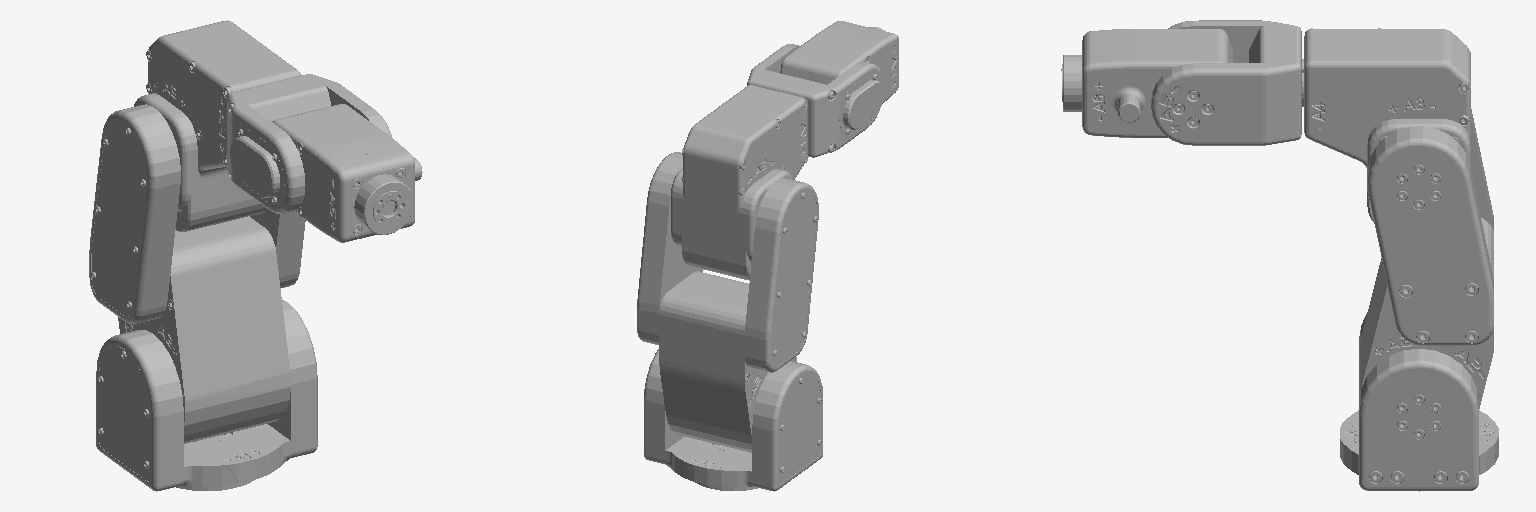
robot.urdf — meca500:
<?xml version="1.0" ?>
<!-- Re-rooted from the home-referenced Onshape export (doc 0427f697...,
     e/fee9a020bbc735c7ee907f27). Tree inverted mathematically: base is root,
     mates in Onshape untouched. Zero position = true Meca500 home. Axis
     0 0 -1 preserves the export's rotation sense. Verified FK-equivalent to
     the export at machine precision.
     Arm-only: split out of robot.urdf.xacro so the Meca500 links/joints can
     be maintained independently of the extruder (see ender3_extruder.urdf). -->
<robot name="meca500">

  <link name="link_0__base">
    <inertial>
      <origin xyz="-3.11465e-05 0.0104961 -0.0502428" rpy="0 0 0"/>
      <mass value="1.90904"/>
      <inertia ixx="0.00285533" ixy="3.86058e-06" ixz="-1.52473e-07" iyy="0.00224755" iyz="0.000252565" izz="0.00266554"/>
    </inertial>
    <visual>
      <origin xyz="0.0155431 0 -0.00437016" rpy="0 0 0"/>
      <geometry><mesh filename="package://mecha500_robot/meshes_meca500_with_ender3/link_0__base.stl"/></geometry>
      <material name="link_0__base_material"><color rgba="0.74902 0.74902 0.74902 1"/></material>
    </visual>
    <collision>
      <origin xyz="0.0155431 0 -0.00437016" rpy="0 0 0"/>
      <geometry><mesh filename="package://mecha500_robot/meshes_meca500_with_ender3/link_0__base.stl"/></geometry>
    </collision>
  </link>

  <link name="link_1">
    <inertial>
      <origin xyz="0.0012589 -7.610418e-07 0.0232115" rpy="0 0 0"/>
      <mass value="0.619419"/>
      <inertia ixx="0.000550361" ixy="-2.50659e-08" ixz="-1.45934e-05" iyy="0.00108163" iyz="5.45289e-09" izz="0.000974018"/>
    </inertial>
    <visual>
      <origin xyz="0 -1.6345763e-07 0.0445" rpy="-1.570799 3.6732051e-06 -1.5708"/>
      <geometry><mesh filename="package://mecha500_robot/meshes_meca500_with_ender3/link_1.stl"/></geometry>
      <material name="link_1_material"><color rgba="0.74902 0.74902 0.74902 1"/></material>
    </visual>
    <collision>
      <origin xyz="0 -1.6345763e-07 0.0445" rpy="-1.570799 3.6732051e-06 -1.5708"/>
      <geometry><mesh filename="package://mecha500_robot/meshes_meca500_with_ender3/link_1.stl"/></geometry>
    </collision>
  </link>

  <link name="link_2">
    <inertial>
      <origin xyz="-0.0058745645 0.050695484 0.0318181" rpy="0 0 0"/>
      <mass value="1.73919"/>
      <inertia ixx="0.0052387" ixy="8.73073e-05" ixz="5.16414e-07" iyy="0.001944" iyz="5.35906e-05" izz="0.00435286"/>
    </inertial>
    <visual>
      <origin xyz="1.3100773e-07 -0.04937 0.0164569" rpy="-1.5707927 1.5707927 2.6535898e-06"/>
      <geometry><mesh filename="package://mecha500_robot/meshes_meca500_with_ender3/link_2.stl"/></geometry>
      <material name="link_2_material"><color rgba="0.74902 0.74902 0.74902 1"/></material>
    </visual>
    <collision>
      <origin xyz="1.3100773e-07 -0.04937 0.0164569" rpy="-1.5707927 1.5707927 2.6535898e-06"/>
      <geometry><mesh filename="package://mecha500_robot/meshes_meca500_with_ender3/link_2.stl"/></geometry>
    </collision>
  </link>

  <link name="link_3">
    <inertial>
      <origin xyz="-0.0086346826 -0.013079285 0.031972351" rpy="0 0 0"/>
      <mass value="1.00601"/>
      <inertia ixx="0.000992666" ixy="-0.00018473" ixz="-4.31499e-06" iyy="0.000746526" iyz="-1.39099e-05" izz="0.00122325"/>
    </inertial>
    <visual>
      <origin xyz="5.8612967e-08 0.18436996 0.015957389" rpy="-2.1964137 1.5707918 2.5159789"/>
      <geometry><mesh filename="package://mecha500_robot/meshes_meca500_with_ender3/link_3.stl"/></geometry>
      <material name="link_3_material"><color rgba="0.74902 0.74902 0.74902 1"/></material>
    </visual>
    <collision>
      <origin xyz="5.8612967e-08 0.18436996 0.015957389" rpy="-2.1964137 1.5707918 2.5159789"/>
      <geometry><mesh filename="package://mecha500_robot/meshes_meca500_with_ender3/link_3.stl"/></geometry>
    </collision>
  </link>

  <link name="link_4">
    <inertial>
      <origin xyz="-0.0012501924 6.30456e-06 0.029286305" rpy="0 0 0"/>
      <mass value="0.314367"/>
      <inertia ixx="0.000184016" ixy="-9.21593e-09" ixz="7.34301e-06" iyy="0.000298673" iyz="1.8395e-08" izz="0.000209158"/>
    </inertial>
    <visual>
      <origin xyz="2.167191e-07 4.4e-06 0.059" rpy="-1.57079 -3.6732051e-06 1.5707963"/>
      <geometry><mesh filename="package://mecha500_robot/meshes_meca500_with_ender3/link_4.stl"/></geometry>
      <material name="link_4_material"><color rgba="0.74902 0.74902 0.74902 1"/></material>
    </visual>
    <collision>
      <origin xyz="2.167191e-07 4.4e-06 0.059" rpy="-1.57079 -3.6732051e-06 1.5707963"/>
      <geometry><mesh filename="package://mecha500_robot/meshes_meca500_with_ender3/link_4.stl"/></geometry>
    </collision>
  </link>

  <link name="link_5">
    <inertial>
      <origin xyz="-0.020511087 2.54851e-06 0.023742928" rpy="0 0 0"/>
      <mass value="0.447067"/>
      <inertia ixx="0.000149997" ixy="-2.2551e-08" ixz="9.46505e-06" iyy="0.000325043" iyz="-8.77008e-09" izz="0.000314979"/>
    </inertial>
    <visual>
      <origin xyz="0.11999985 -0.2223748 0.039793541" rpy="1.5707927 -1.5707927 3.1415927"/>
      <geometry><mesh filename="package://mecha500_robot/meshes_meca500_with_ender3/link_5.stl"/></geometry>
      <material name="link_5_material"><color rgba="0.74902 0.74902 0.74902 1"/></material>
    </visual>
    <collision>
      <origin xyz="0.11999985 -0.2223748 0.039793541" rpy="1.5707927 -1.5707927 3.1415927"/>
      <geometry><mesh filename="package://mecha500_robot/meshes_meca500_with_ender3/link_5.stl"/></geometry>
    </collision>
  </link>

  <!-- Renamed from e_plate to link_6__flange so existing MoveIt/TF configs keep resolving -->
  <link name="link_6__flange">
    <inertial>
      <origin xyz="0.0023892729 0.030714176 0.047889894" rpy="0 0 0"/>
      <mass value="0.0621557"/>
      <inertia ixx="4.78126e-05" ixy="1.09528e-06" ixz="-1.31699e-06" iyy="4.16512e-05" iyz="-1.34038e-05" izz="3.06279e-05"/>
    </inertial>
    <visual>
      <origin xyz="0.076354021 -0.051549583 -0.15859321" rpy="-1.5707953 2.6535898e-06 -3.1415927"/>
      <geometry><mesh filename="package://mecha500_robot/meshes_meca500_with_ender3/link_6__flange.stl"/></geometry>
      <material name="link_6__flange_material"><color rgba="0.74902 0.74902 0.74902 1"/></material>
    </visual>
    <collision>
      <origin xyz="0.076354021 -0.051549583 -0.15859321" rpy="-1.5707953 2.6535898e-06 -3.1415927"/>
      <geometry><mesh filename="package://mecha500_robot/meshes_meca500_with_ender3/link_6__flange.stl"/></geometry>
    </collision>
  </link>

  <joint name="joint1" type="revolute">
    <origin xyz="0 0 0" rpy="0 0 0"/>
    <parent link="link_0__base"/>
    <child link="link_1"/>
    <axis xyz="0 0 -1"/>
    <limit effort="16.6" velocity="3.927" lower="-3.0543" upper="3.0543"/>
  </joint>
  <joint name="joint2" type="revolute">
    <origin xyz="0.0325 -2.8283679e-07 0.0445" rpy="1.5707963 3.6732051e-06 -1.5708"/>
    <parent link="link_1"/>
    <child link="link_2"/>
    <axis xyz="0 0 -1"/>
    <limit effort="16.6" velocity="3.927" lower="-1.2217" upper="1.5708"/>
  </joint>
  <joint name="joint3" type="revolute">
    <origin xyz="-3.5823462e-07 0.135 0" rpy="0 0 -3.14159"/>
    <parent link="link_2"/>
    <child link="link_3"/>
    <axis xyz="0 0 -1"/>
    <limit effort="16.6" velocity="3.927" lower="-2.3562" upper="1.2217"/>
  </joint>
  <joint name="joint4" type="revolute">
    <origin xyz="-0.060999884 -0.038000084 0.031500123" rpy="-0.62561375 1.5707918 2.5159789"/>
    <parent link="link_3"/>
    <child link="link_4"/>
    <axis xyz="0 0 -1"/>
    <limit effort="2.5" velocity="6.1087" lower="-2.9671" upper="2.9671"/>
  </joint>
  <joint name="joint5" type="revolute">
    <origin xyz="-0.023999783 4.4e-06 0.059000088" rpy="3.1415927 1.5707927 3.1415927"/>
    <parent link="link_4"/>
    <child link="link_5"/>
    <axis xyz="0 0 -1"/>
    <limit effort="2.5" velocity="6.1087" lower="-2.0071" upper="2.0071"/>
  </joint>
  <joint name="joint6" type="revolute">
    <origin xyz="-0.059000089 2.2e-06 0.024249783" rpy="3.1415927 -1.5707927 3.1415927"/>
    <parent link="link_5"/>
    <child link="link_6__flange"/>
    <axis xyz="0 0 -1"/>
    <limit effort="1.5" velocity="8.7266" lower="-628.318" upper="628.318"/>
  </joint>

</robot>

--- Facts derived from the render (not from the file) ---
3 views of the same robot in one strip: view 1: azimuth 30°, elevation 25°; view 2: azimuth 150°, elevation 25°; view 3: azimuth 270°, elevation 25° (orthographic).
Model meca500 with 7 links and 6 joints (6 revolute), rooted at link_0__base, posed all joints at 0.
Visible links, largest first — view 1: link_2, link_1, link_3, link_5, link_4, link_6__flange; view 2: link_2, link_3, link_1, link_4, link_5; view 3: link_2, link_3, link_1, link_4, link_5.
Link boxes in pixels (x1=…): link_2: x1=89, y1=104, x2=305, y2=443; link_1: x1=96, y1=300, x2=317, y2=491; link_3: x1=134, y1=20, x2=300, y2=231; link_5: x1=272, y1=104, x2=422, y2=242; link_4: x1=227, y1=74, x2=391, y2=213; link_6__flange: x1=373, y1=191, x2=405, y2=226; link_2: x1=637, y1=152, x2=818, y2=452; link_3: x1=671, y1=85, x2=807, y2=280; link_1: x1=644, y1=349, x2=822, y2=491; link_4: x1=747, y1=44, x2=883, y2=157; link_5: x1=780, y1=21, x2=898, y2=103; link_2: x1=1359, y1=109, x2=1493, y2=408; link_3: x1=1304, y1=28, x2=1470, y2=223; link_1: x1=1340, y1=312, x2=1498, y2=491; link_4: x1=1151, y1=20, x2=1303, y2=145; link_5: x1=1063, y1=29, x2=1233, y2=137.
Bounding box of the posed robot: 0.1019 × 0.2324 × 0.2545 m (x, y, z).
6 mesh visuals loaded from 7 distinct referenced files (6 binary STL); not drawn: 1 (reference not matched to a file when rendering).
